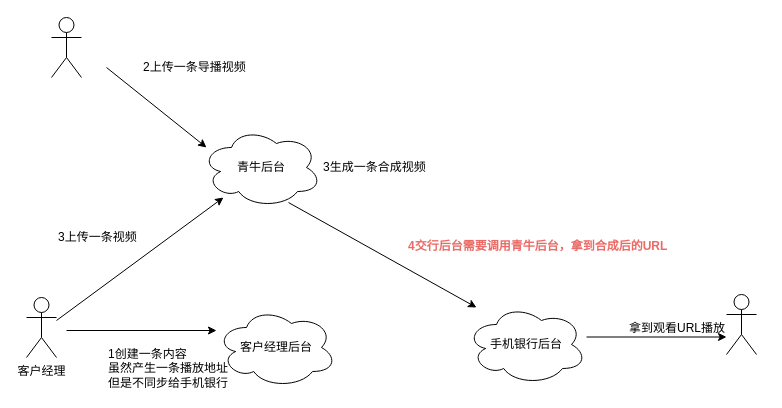
This 782x408 diagram has some shape labels left out. Here are the shapes that lost their labels. From the top down, the centre of each, then its label:
At (x=66, y=47): "导播".
At (x=741, y=324): "手机银行".
